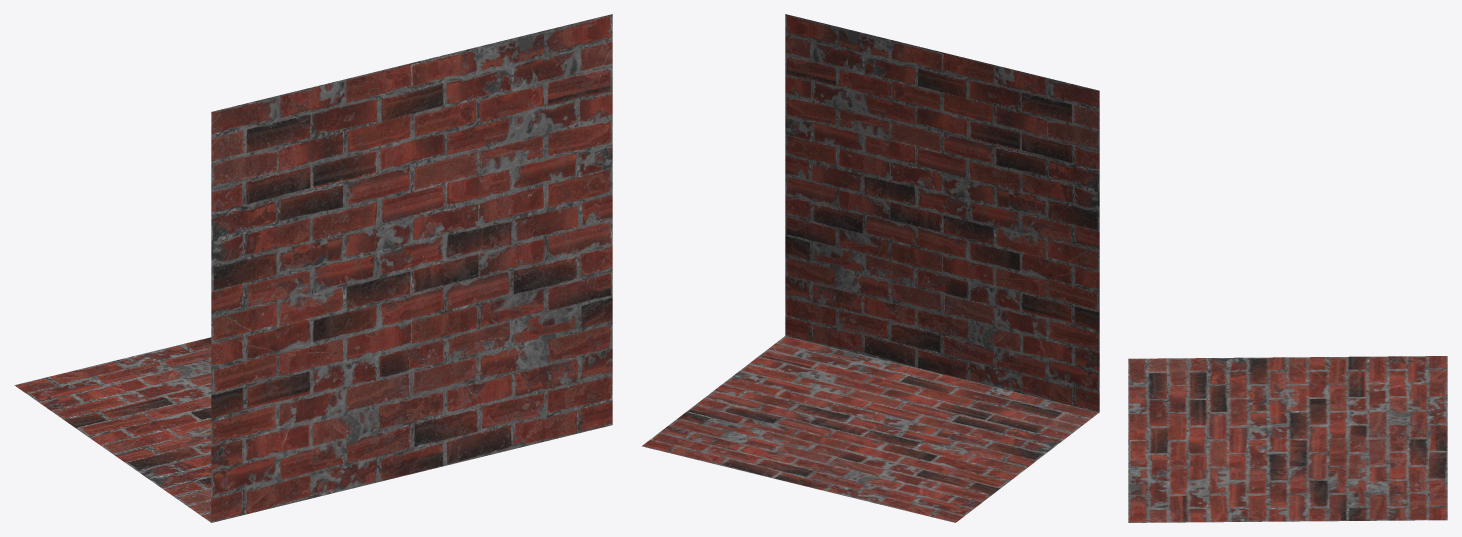
Rendered from walls_034.fbx.
3 views of the same model, side by side, from view 1: azimuth 30°, elevation 25°; view 2: azimuth 150°, elevation 25°; view 3: azimuth 270°, elevation 25° (orthographic). The views are drawn at different scales.
Visible parts, largest first — view 1: Quad__2_; view 2: Quad__2_; view 3: Quad__2_.
Boxes of the visible parts, x1=… form: Quad__2_: x1=14, y1=14, x2=612, y2=522; Quad__2_: x1=642, y1=14, x2=1099, y2=522; Quad__2_: x1=1128, y1=356, x2=1447, y2=522.
Size of the model in its own units: 5.4 by 5.19 by 4.36.
Materials: 1 (1 with a texture image).
